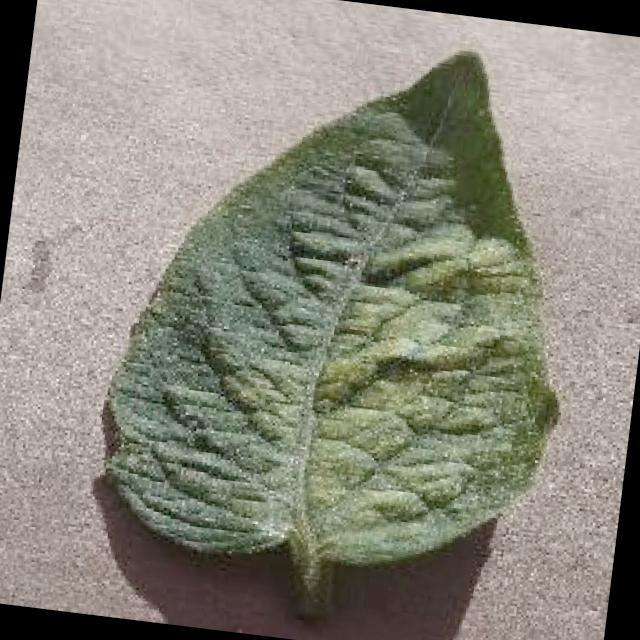Tomato spider mites leaf: (90, 11, 603, 592)
